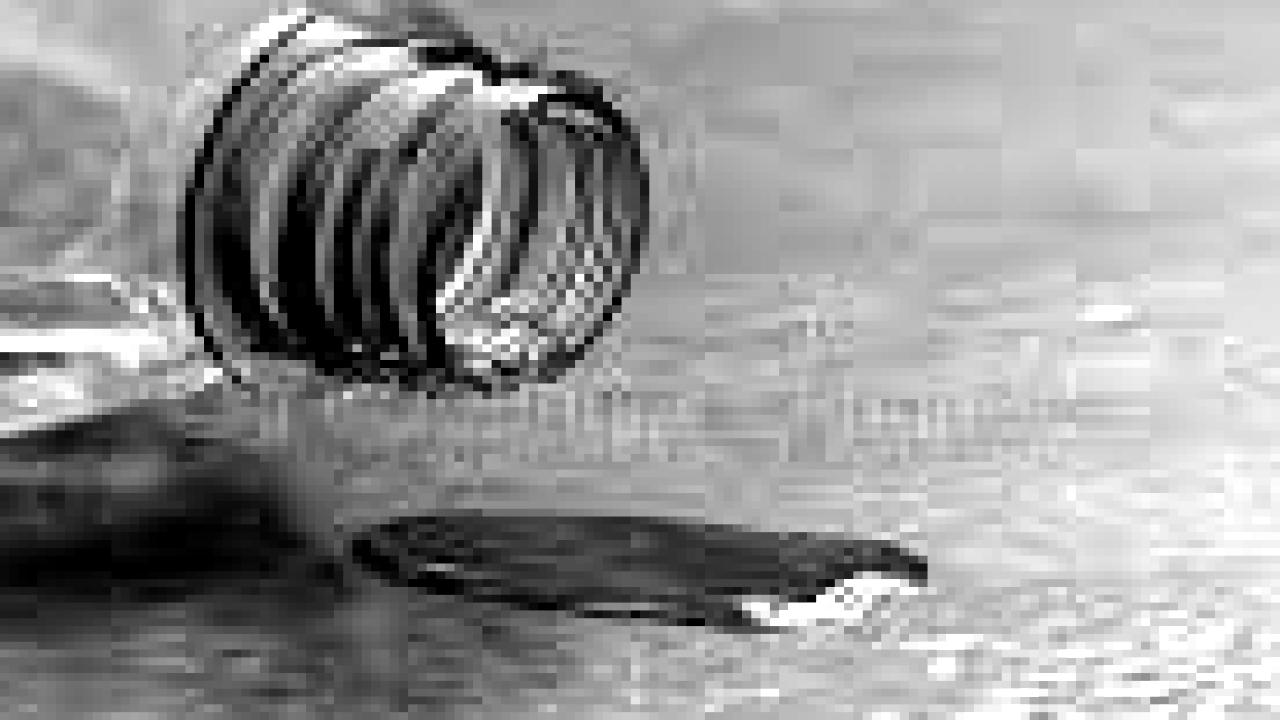Water Stains: (298, 464, 1042, 709)
